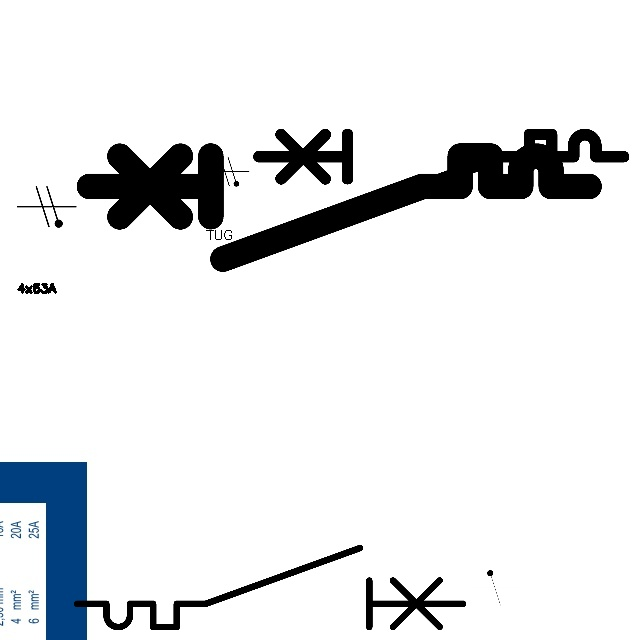interruptor_termomagnetico: (76, 143, 602, 271), (67, 538, 473, 637), (249, 125, 632, 219)
